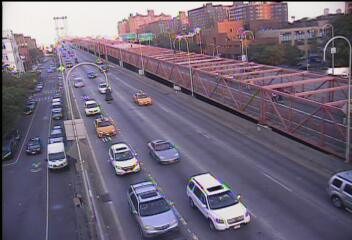neg: (49, 9, 71, 38), (272, 85, 286, 102)
